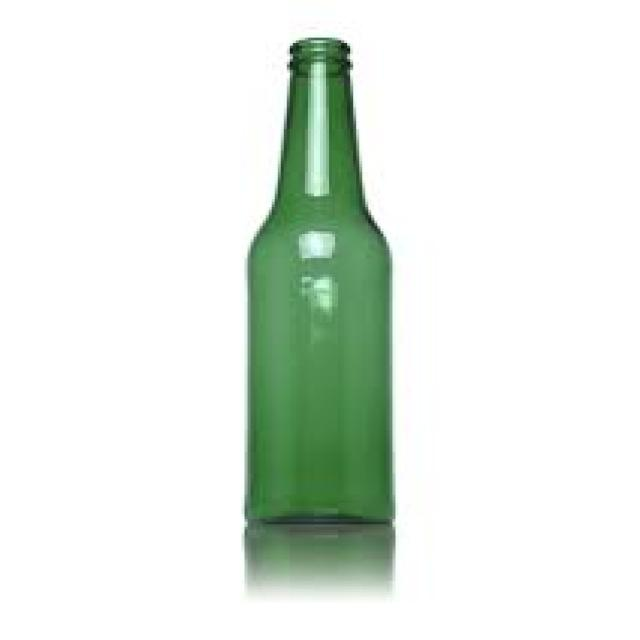glass: (245, 35, 393, 527)
